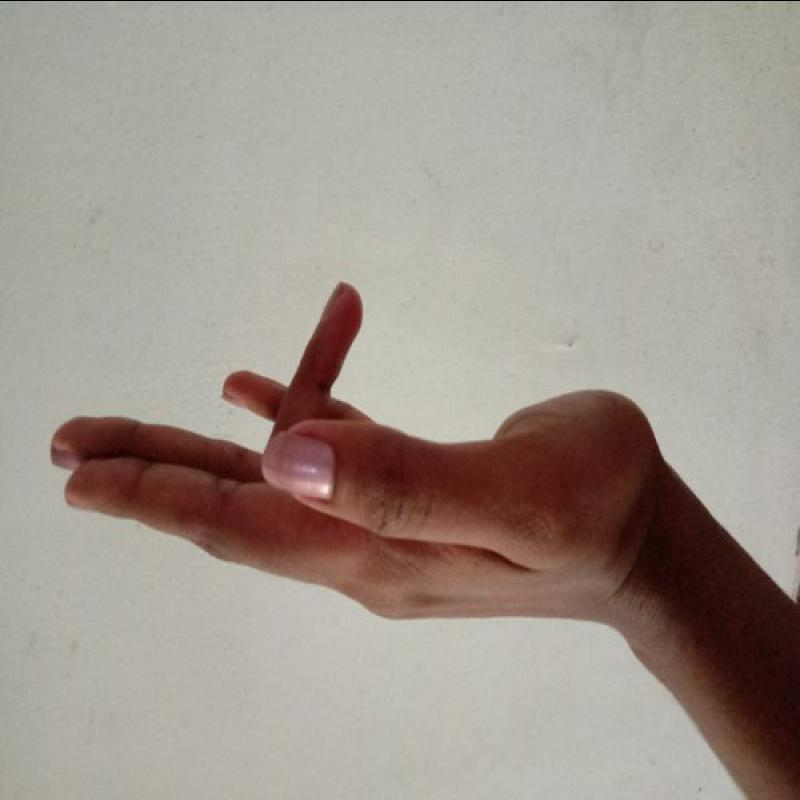Pathaaka: (34, 254, 679, 641)
